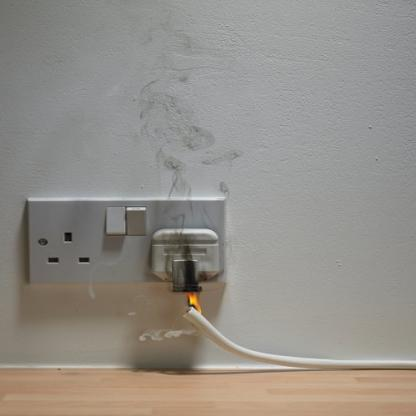fire: (184, 292, 208, 317)
smoke: (136, 75, 242, 291)
